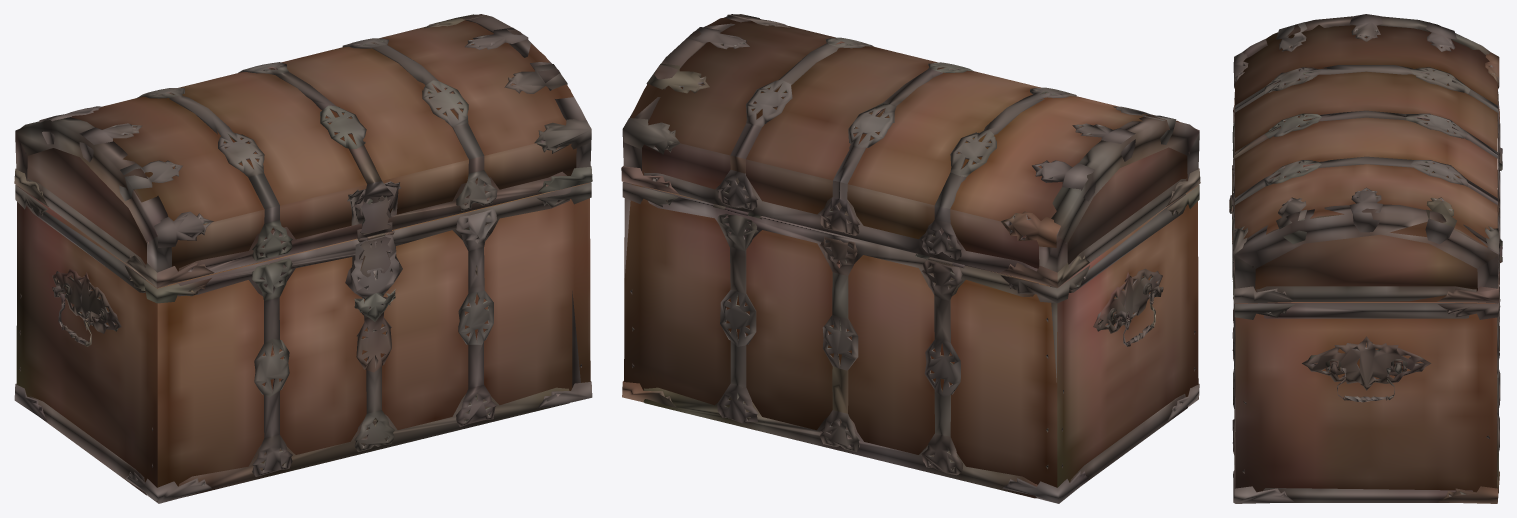
File: design-treasure-chest.glb
3 renders of one model, left to right at view 1: azimuth 30°, elevation 25°; view 2: azimuth 150°, elevation 25°; view 3: azimuth 270°, elevation 25°, orthographic. The views are drawn at different scales.
Visible parts, largest first — view 1: treasure_chest_bottom; view 2: treasure_chest_bottom; view 3: treasure_chest_bottom.
Part boxes in pixels (box(x1,y1,x2,y2)): treasure_chest_bottom: box(14, 14, 592, 503); treasure_chest_bottom: box(621, 14, 1200, 503); treasure_chest_bottom: box(1229, 14, 1502, 503).
Size of the model in its own units: 0.9512 by 0.6174 by 0.5223.
1 material, 1 textured.
